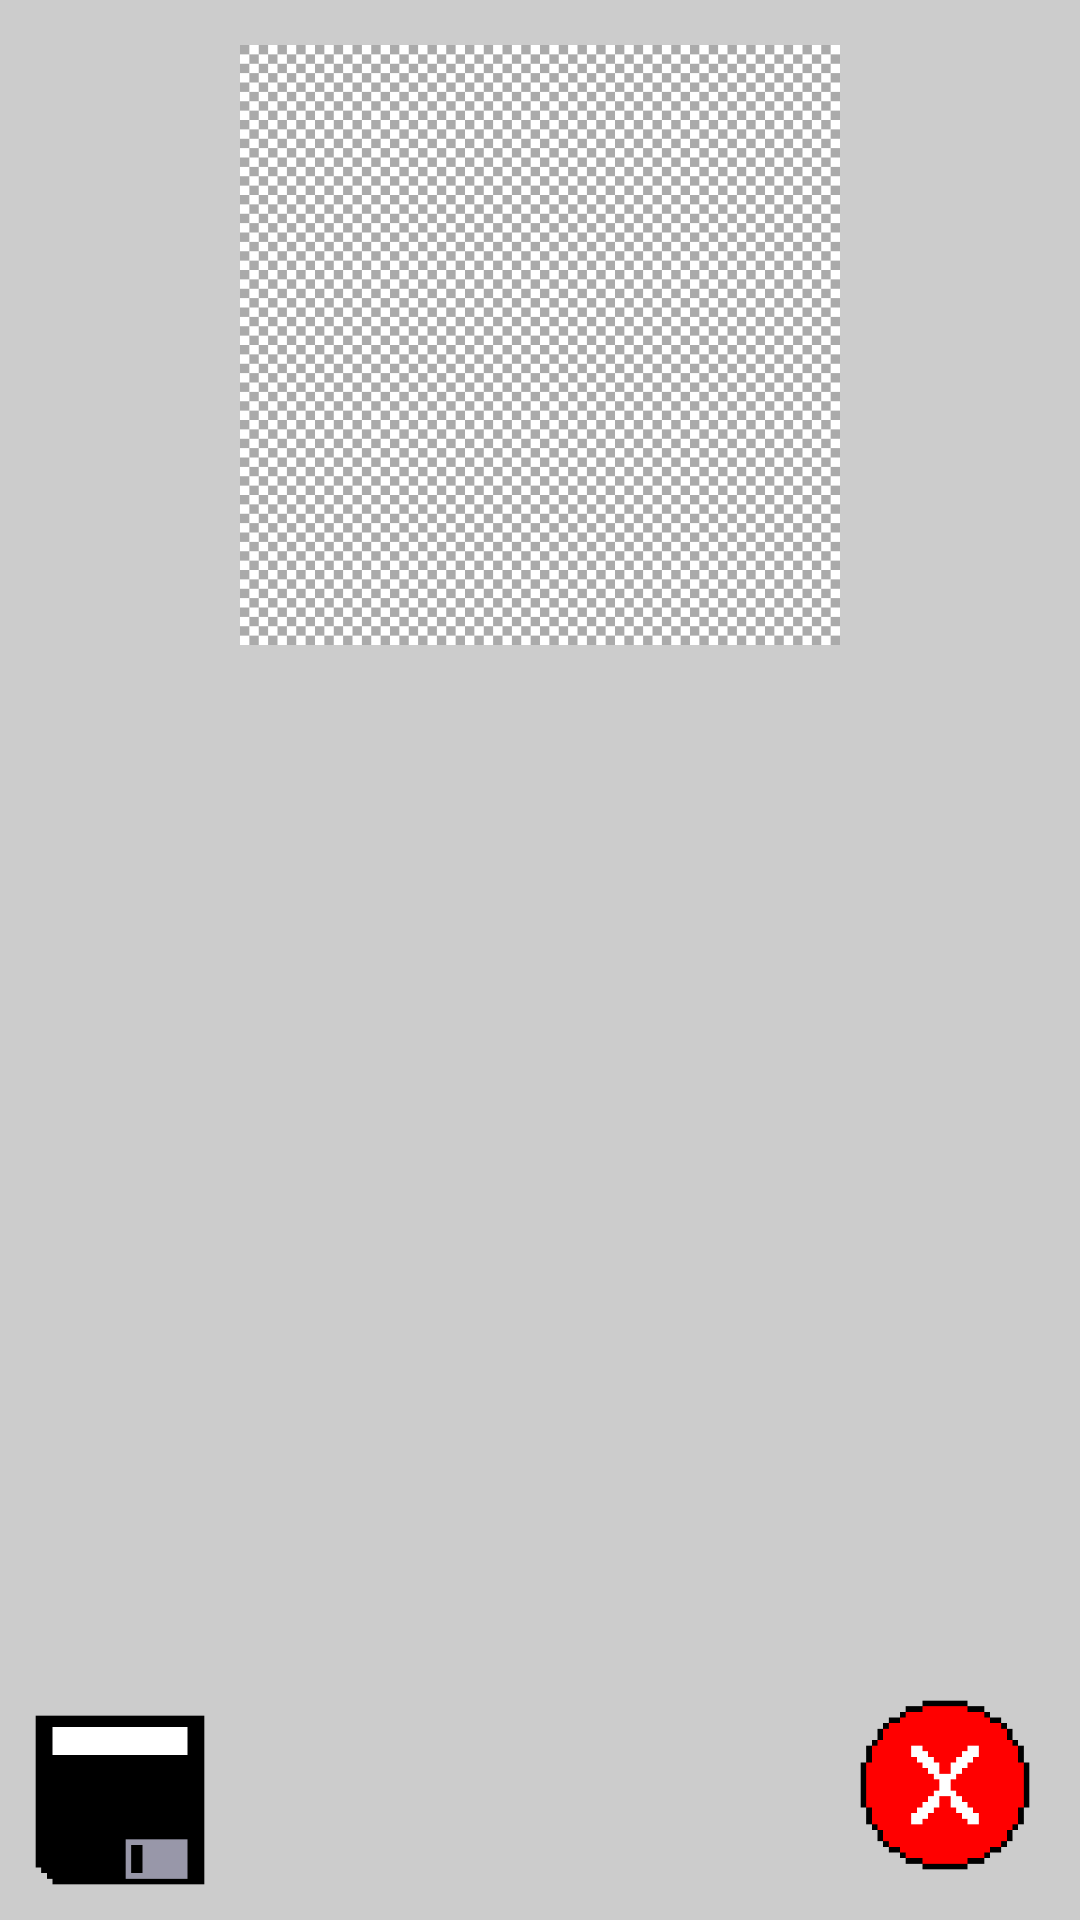

Screen size 1080w x 1920h. Icon name, then its center in pixels as [x,y]:
close: [945,1785]
save: [120,1800]
